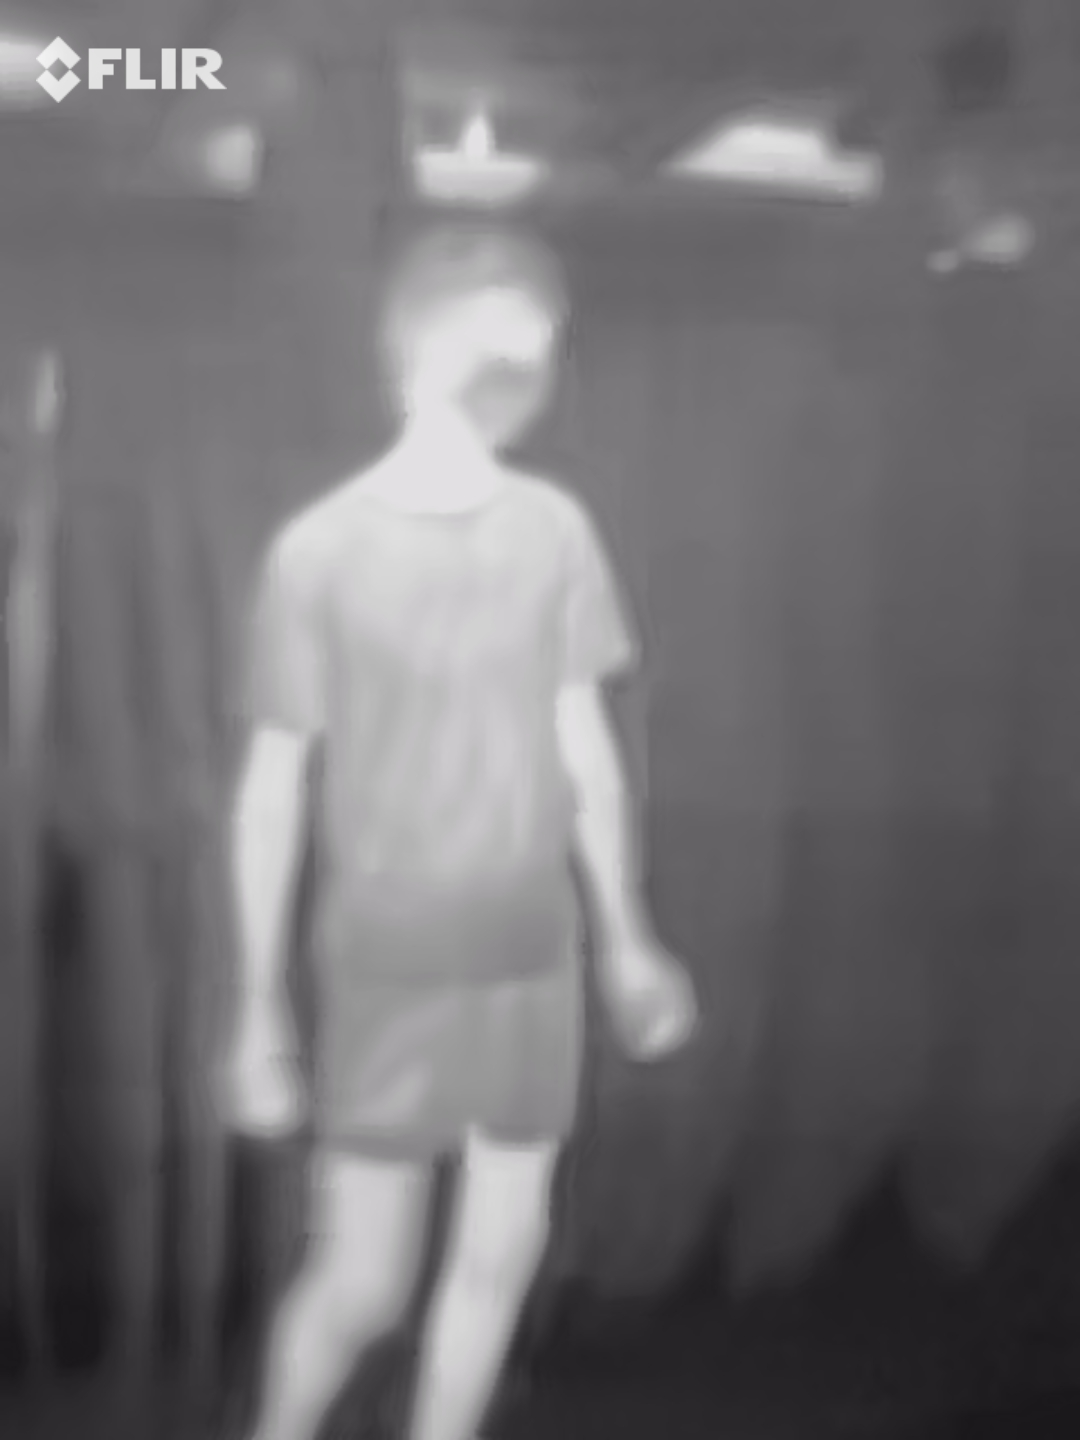head: (376, 219, 577, 460)
